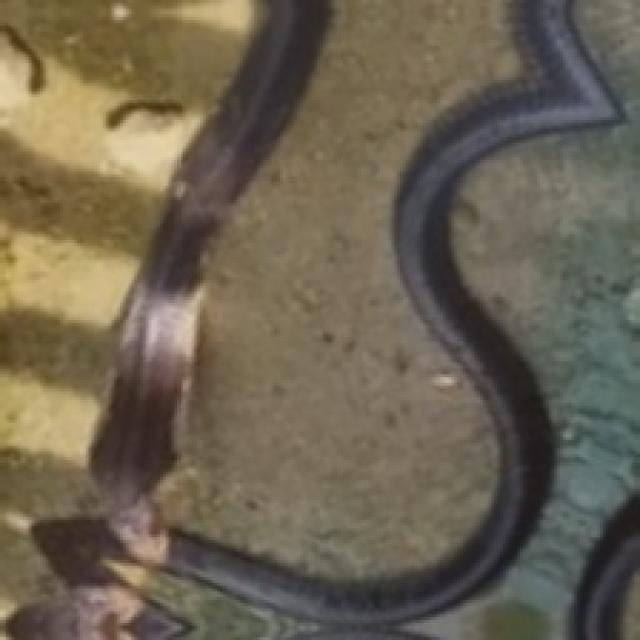king cobra: (91, 0, 622, 626)
